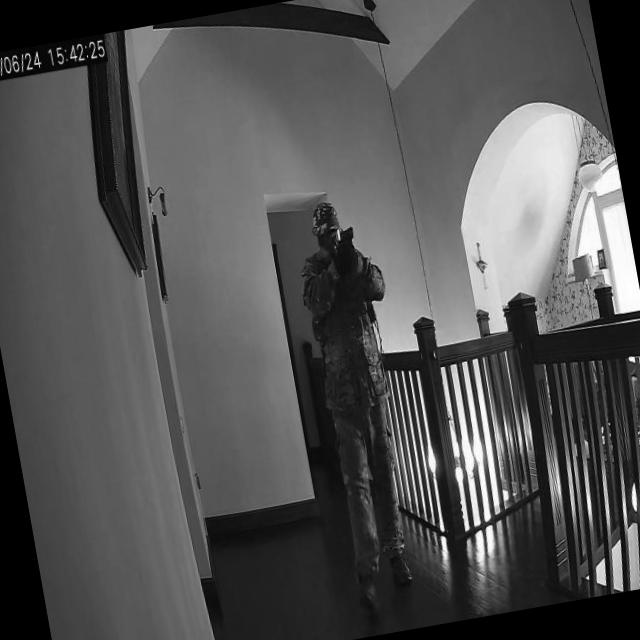gun: (336, 223, 358, 247)
person with a gun: (286, 190, 442, 615)
